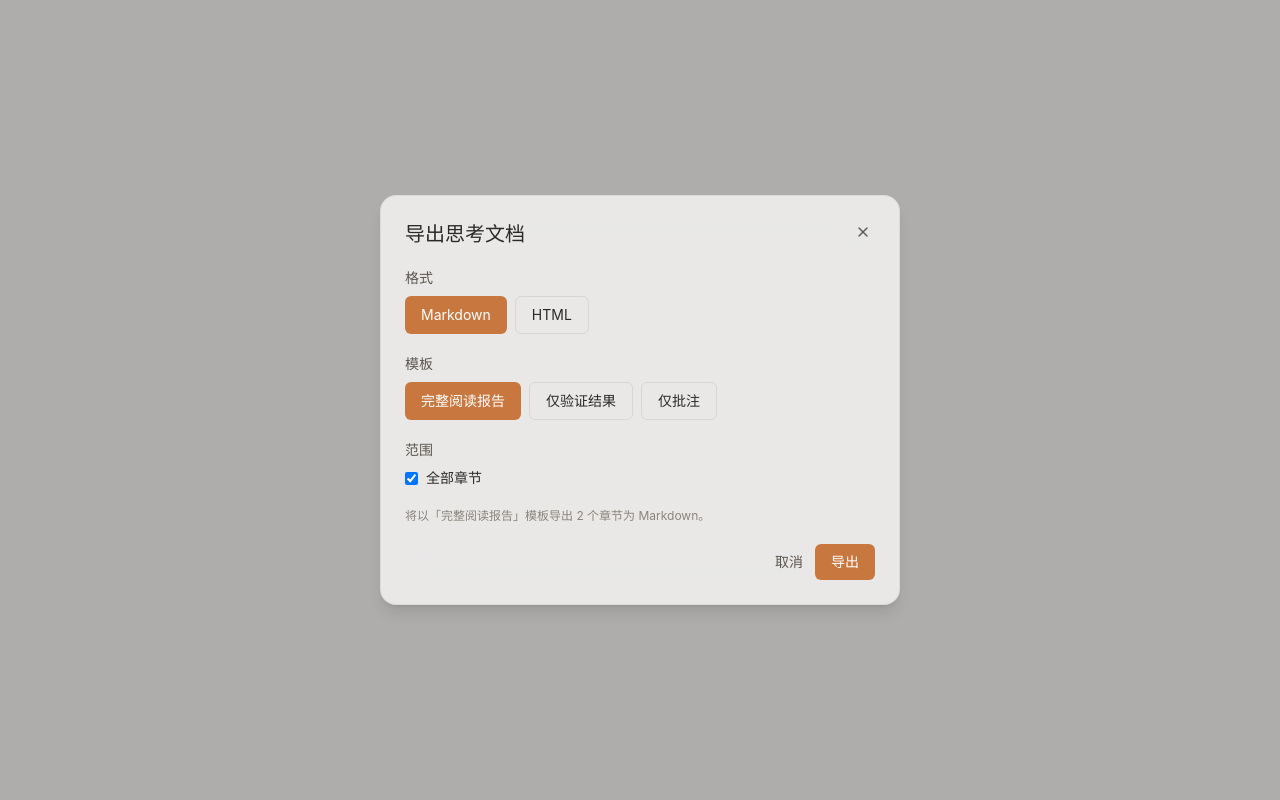
Test: ExportDialog › names the dialog and exposes the selected export format and template
The width and height of the screenshot is (1280, 800).
Click the button "HTML" at (552,315), box [515, 296, 589, 334]
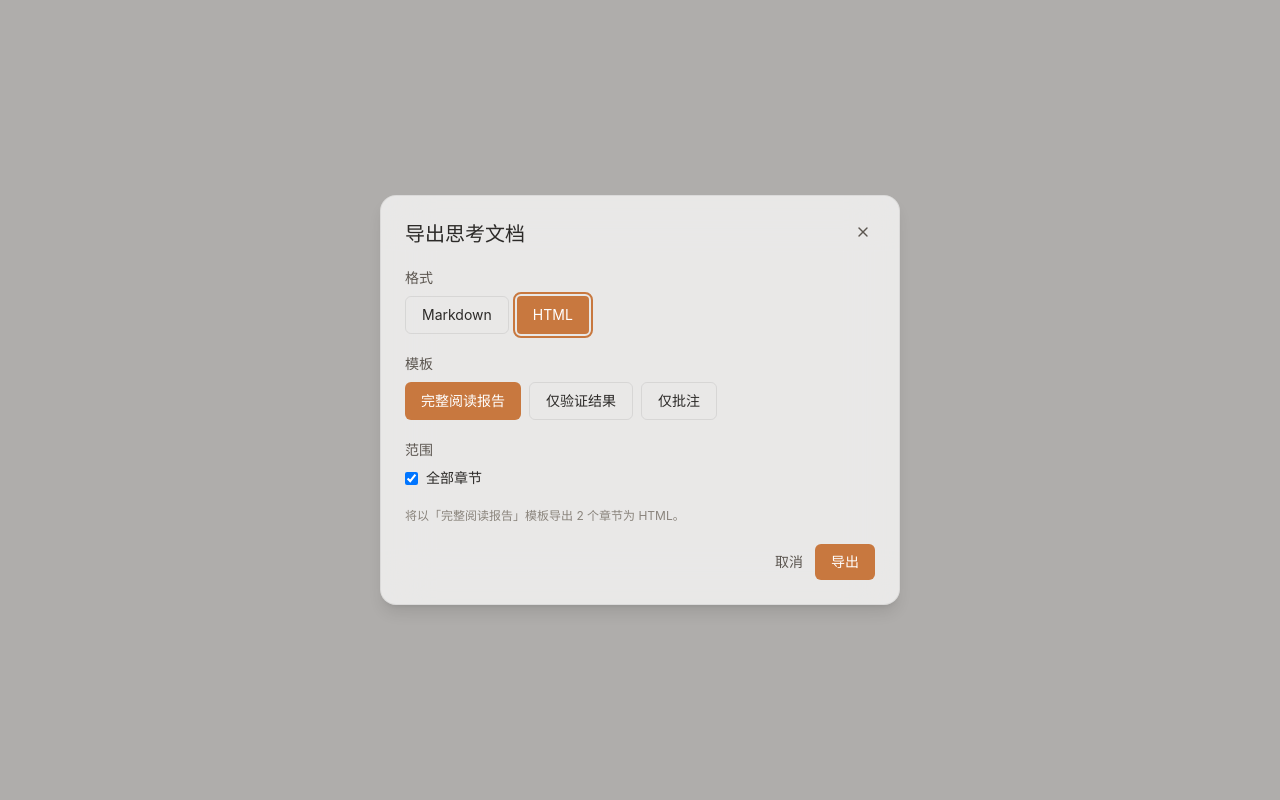
Expected: the button "HTML" is pressed, [517, 296, 589, 334]
Click the button "仅验证结果" at (581,401), box [529, 382, 633, 420]
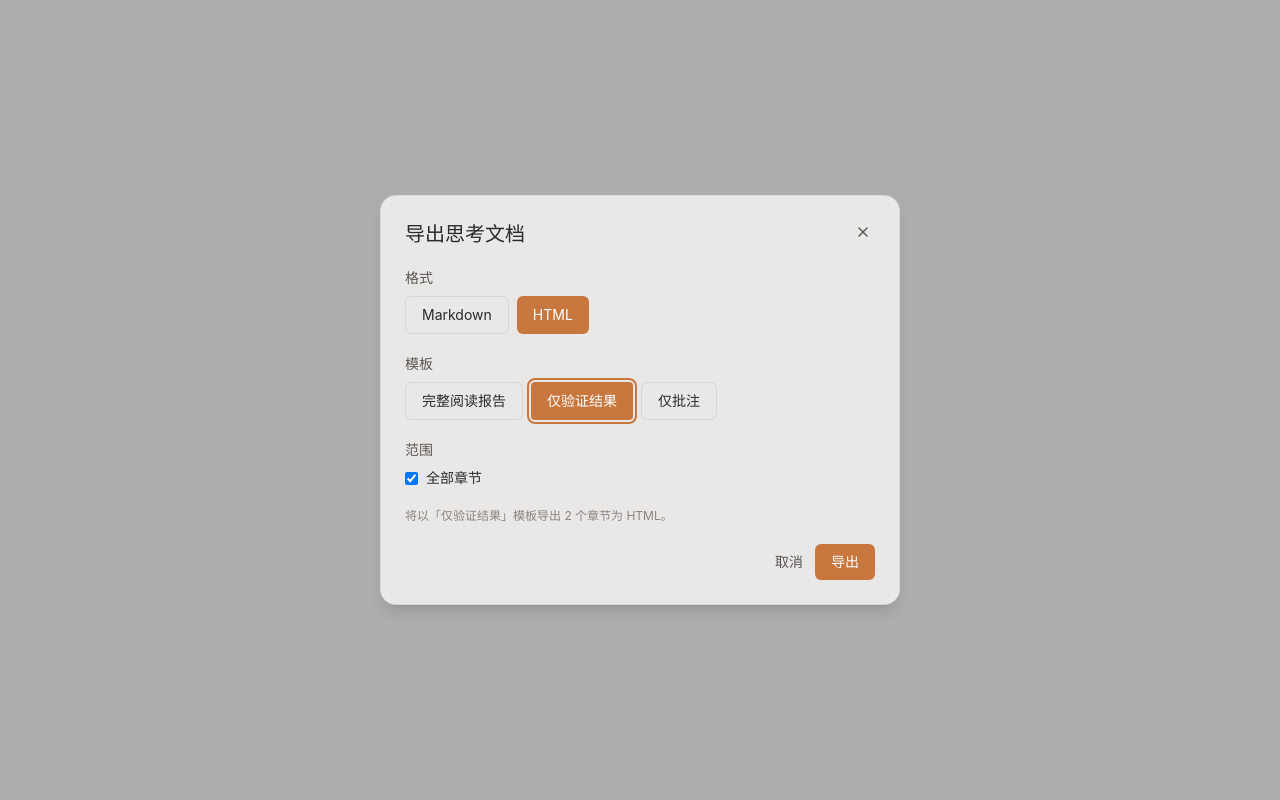
Expected: the message shows "仅验证结果", [405, 508, 673, 523]
